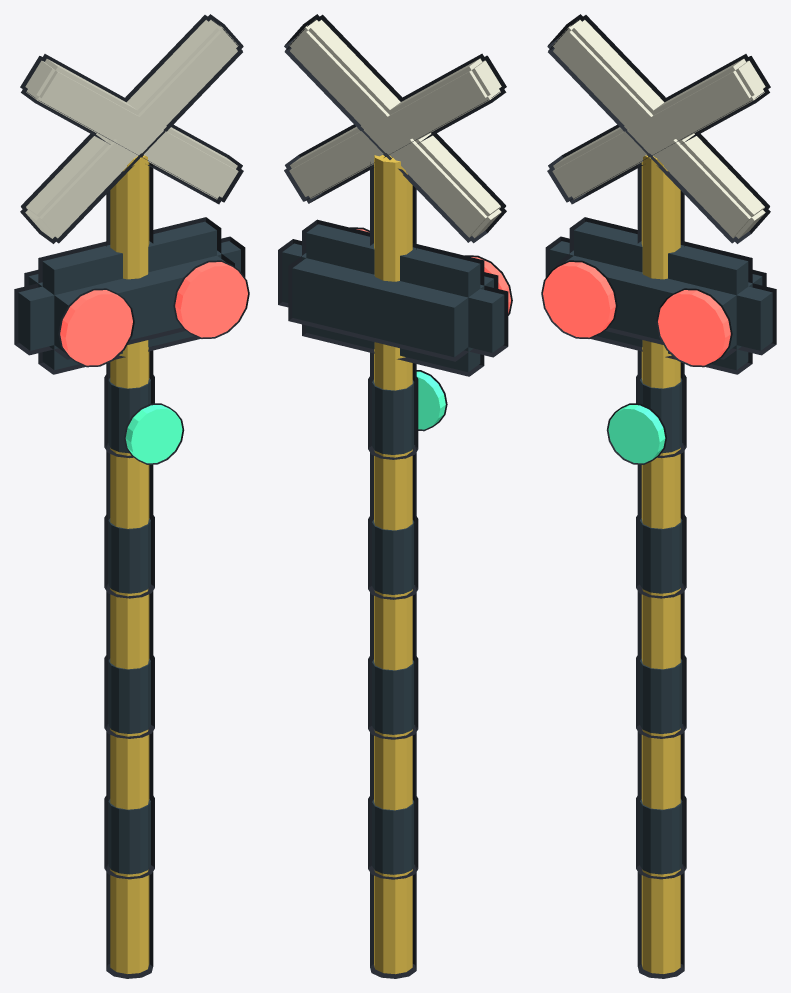
The model's file is Signal_Left.fbx.
The picture shows the model from 3 angles, left to right: view 1: azimuth 30°, elevation 25°; view 2: azimuth 150°, elevation 25°; view 3: azimuth 330°, elevation 25°; orthographic projection.
Visible parts, largest first — view 1: Signal_Left_Structure, NPR_Outline_Signal_Left_Structure, Signal_Left_RedLens_A, Signal_Left_RedLens_B, Signal_Left_GreenLens, NPR_Outline_Signal_Left_RedLens_A, NPR_Outline_Signal_Left_RedLens_B; view 2: Signal_Left_Structure, NPR_Outline_Signal_Left_Structure, Signal_Left_GreenLens; view 3: Signal_Left_Structure, NPR_Outline_Signal_Left_Structure, Signal_Left_RedLens_B, Signal_Left_RedLens_A, Signal_Left_GreenLens, NPR_Outline_Signal_Left_RedLens_B, NPR_Outline_Signal_Left_RedLens_A.
Boxes of the visible parts, <box> form: Signal_Left_Structure: <box>18,20,240,973</box>; NPR_Outline_Signal_Left_Structure: <box>14,14,245,978</box>; Signal_Left_RedLens_A: <box>60,290,132,365</box>; Signal_Left_RedLens_B: <box>175,262,247,337</box>; Signal_Left_GreenLens: <box>125,405,182,463</box>; NPR_Outline_Signal_Left_RedLens_A: <box>58,288,134,367</box>; NPR_Outline_Signal_Left_RedLens_B: <box>173,260,249,338</box>; Signal_Left_Structure: <box>282,20,504,974</box>; NPR_Outline_Signal_Left_Structure: <box>278,14,508,978</box>; Signal_Left_GreenLens: <box>416,371,445,429</box>; Signal_Left_Structure: <box>550,20,772,973</box>; NPR_Outline_Signal_Left_Structure: <box>545,14,776,978</box>; Signal_Left_RedLens_B: <box>658,290,730,365</box>; Signal_Left_RedLens_A: <box>543,262,615,337</box>; Signal_Left_GreenLens: <box>608,405,665,463</box>; NPR_Outline_Signal_Left_RedLens_B: <box>656,288,732,367</box>; NPR_Outline_Signal_Left_RedLens_A: <box>541,260,617,338</box>.
Bounding box in the file's own units: 56.39 × 232 × 22.21.
